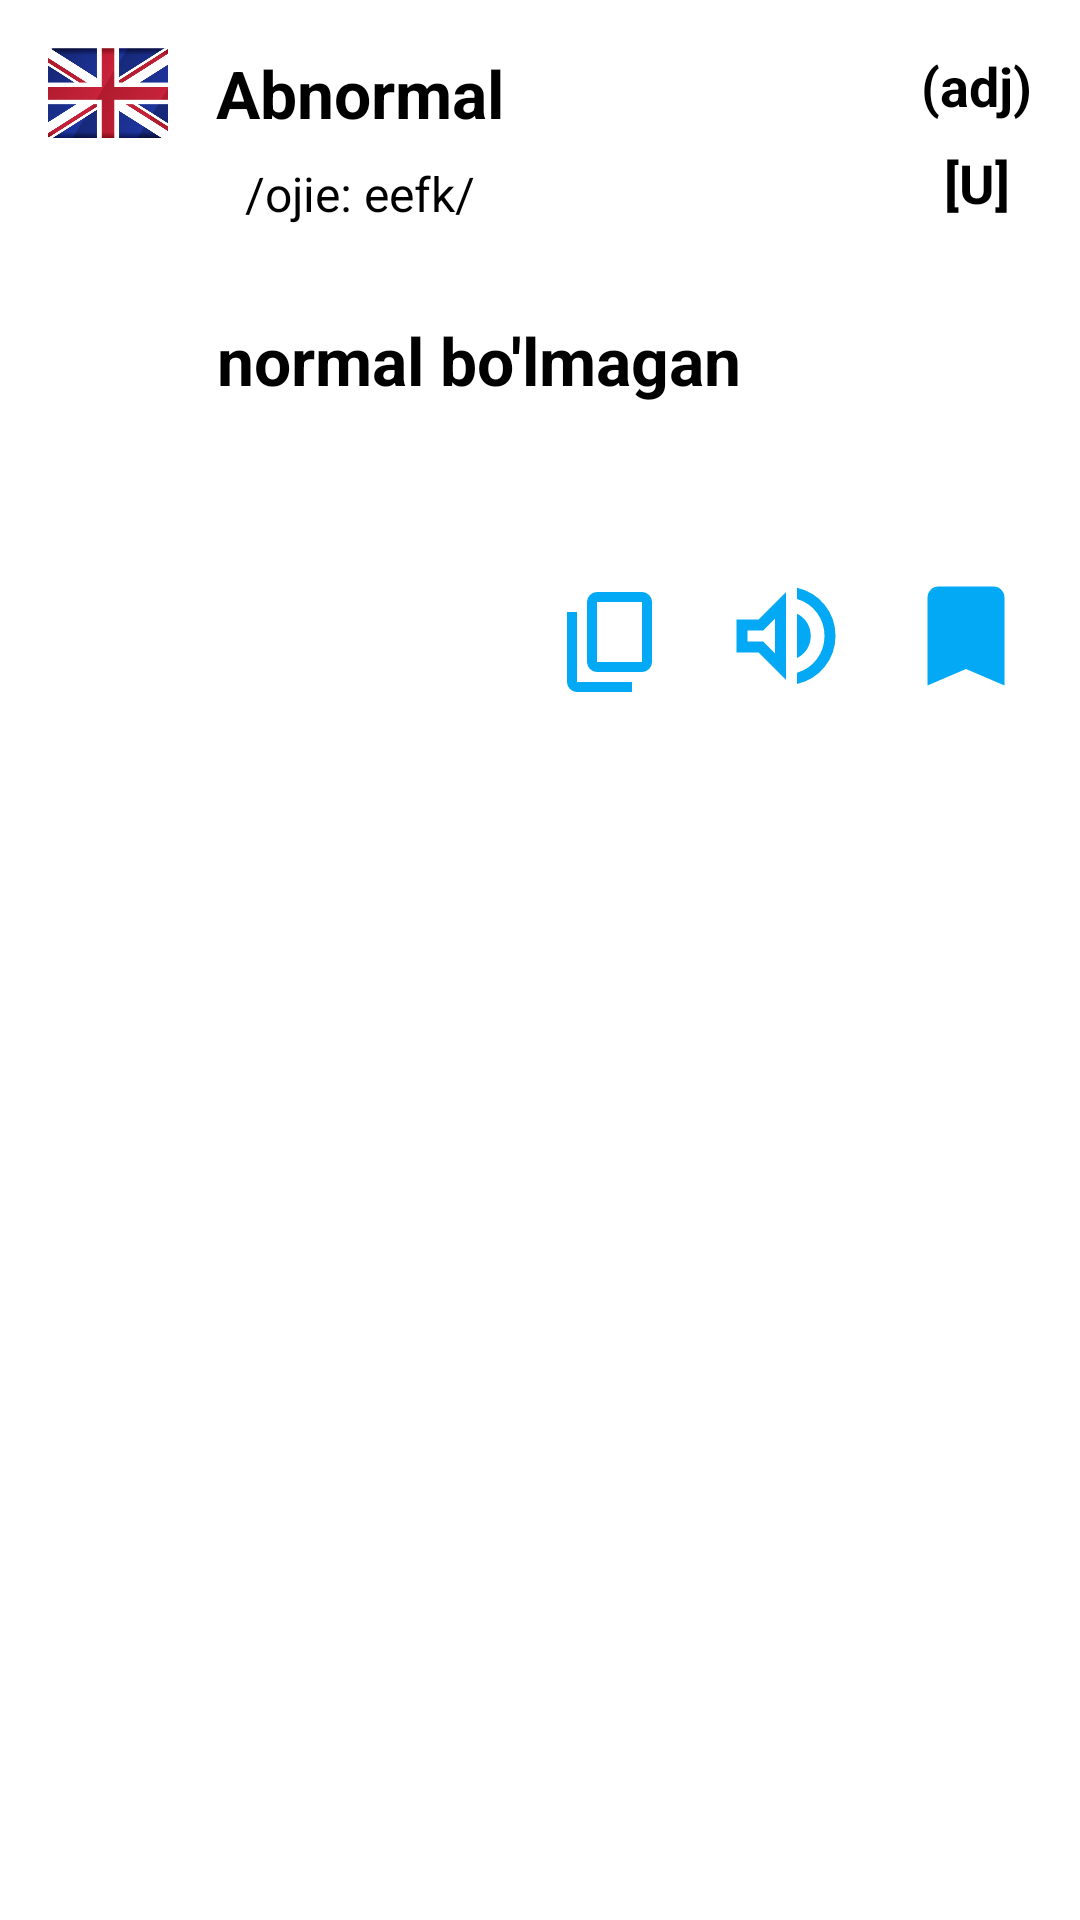

Icon click points for this 1080 x 1920 phone screenshot, format point (x, y):
bookmark: point (966, 636)
content: point (609, 642)
flag english: point (108, 93)
volume up: point (786, 635)
